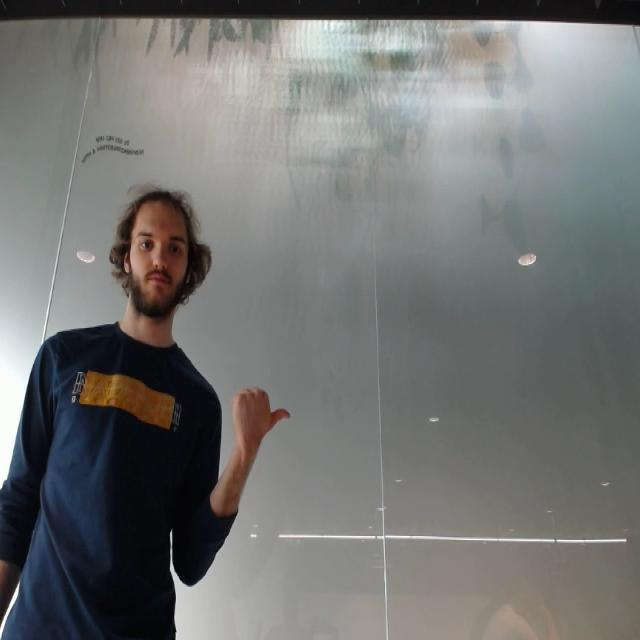right: (230, 377, 302, 441)
